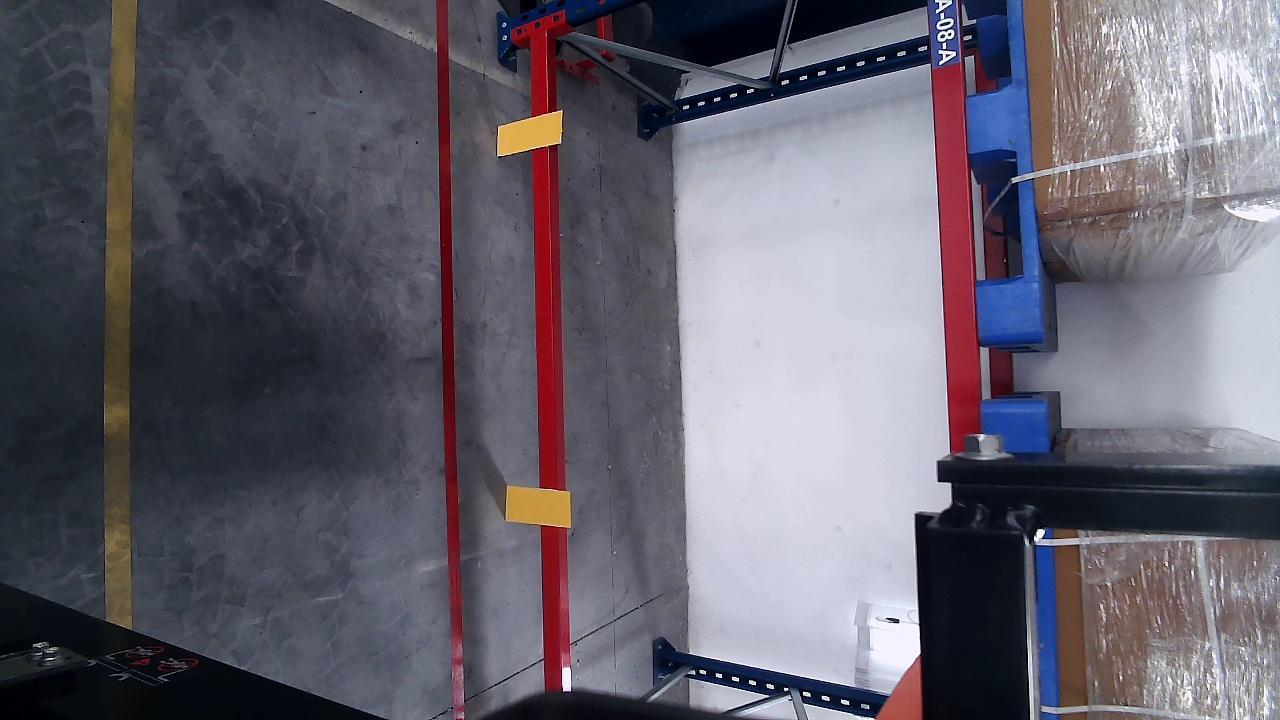h_rack: (528, 28, 569, 688), (930, 1, 983, 431)
orange_strip: (497, 111, 562, 154), (504, 486, 572, 527)
red_line: (435, 0, 467, 717)
small_pallet: (955, 2, 1047, 342)
yellow_line: (101, 1, 141, 626)
